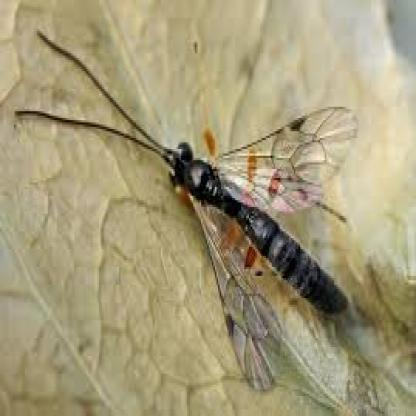sawfly: (34, 44, 365, 392)
